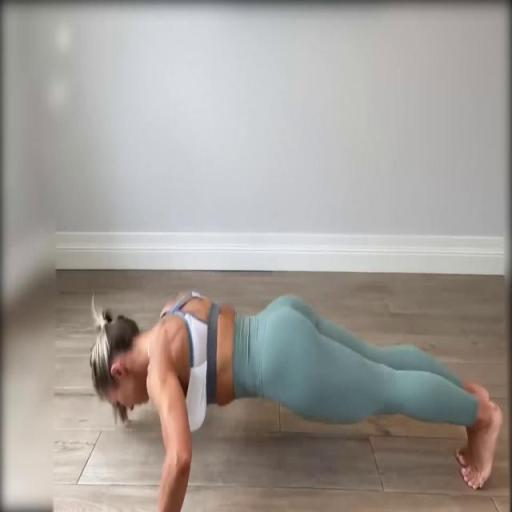Normal_BrenchPress: (88, 291, 504, 509)
